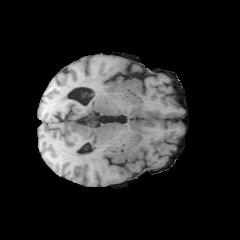glioma: (69, 123, 96, 161)
